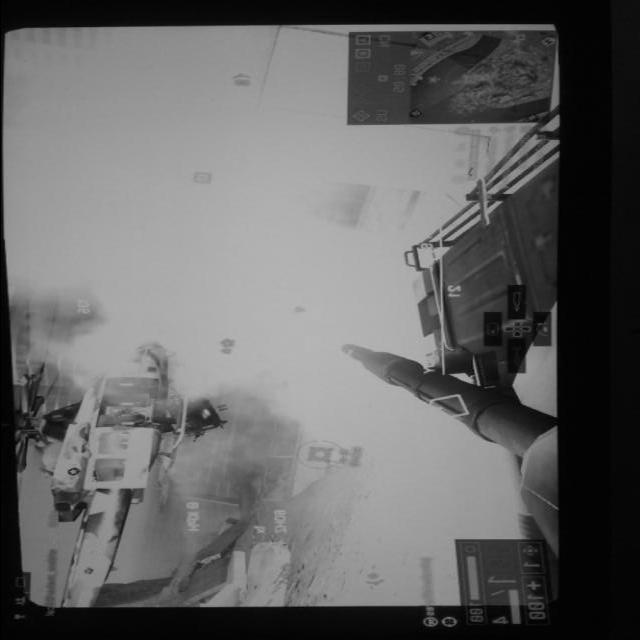missile: (332, 344, 565, 463)
